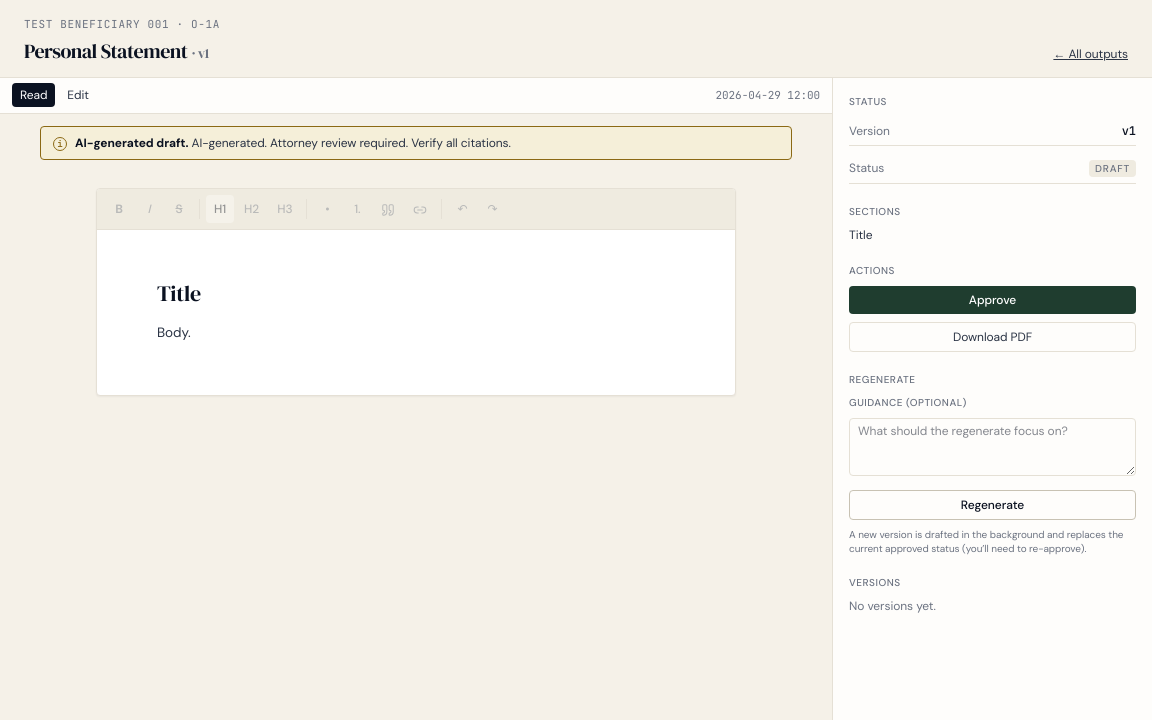
Scenario: OutputDetailPanel — Save flow › Save button ENABLES when dirty=true
What coordinates should you click on to do the following:
click the button "Edit"
I would click on:
 (78, 95)
Its box is [59,83,97,107].
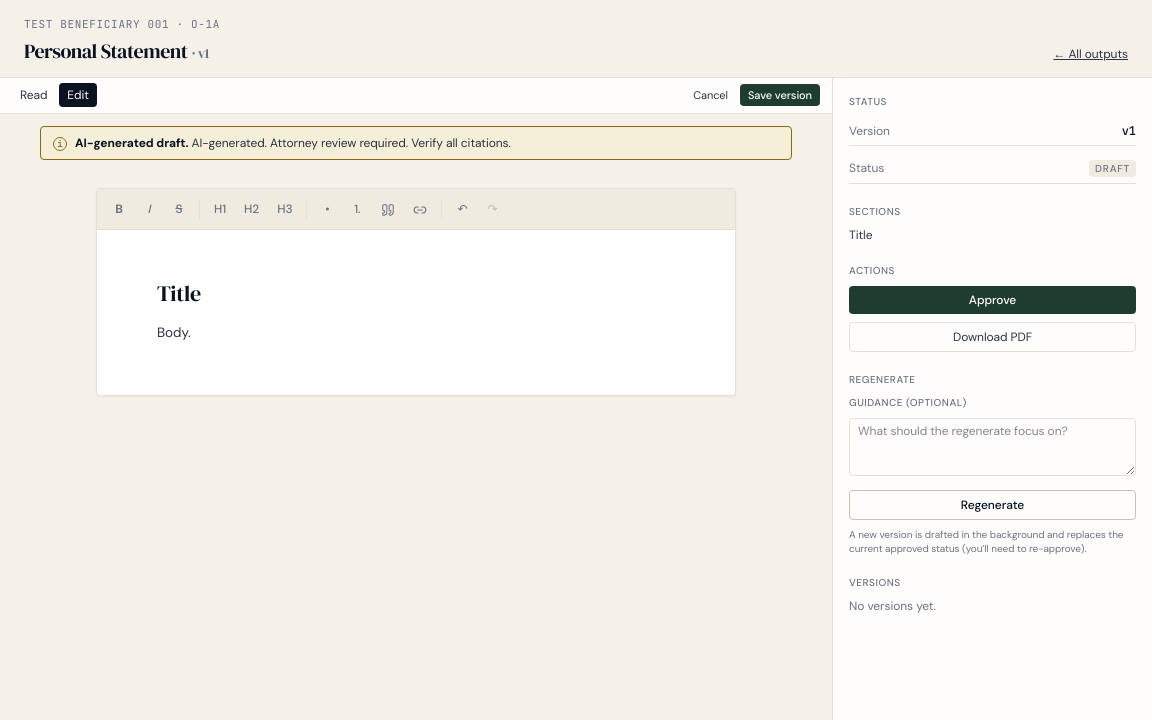
expect the button "Save version" is enabled: met, box [740,84,820,106]
